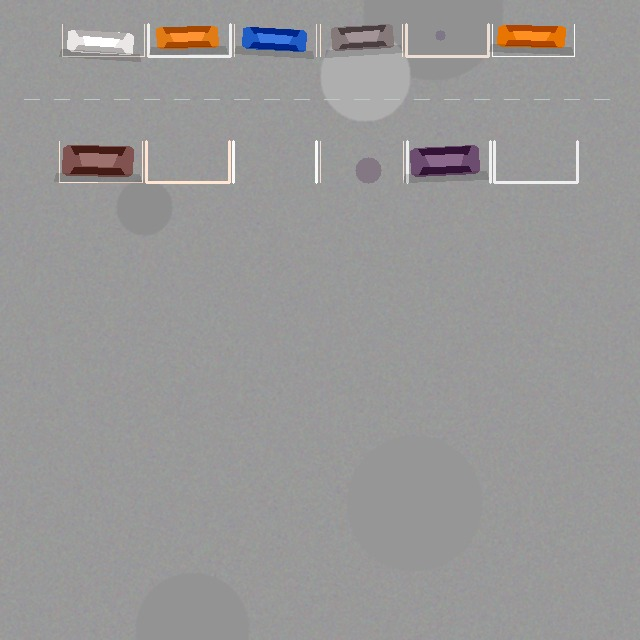space-empty: (146, 141, 229, 182), (233, 141, 316, 182), (320, 141, 403, 182), (494, 141, 577, 182), (406, 24, 488, 56)
space-occupied: (59, 141, 142, 182), (407, 141, 490, 182), (62, 24, 144, 56), (148, 24, 230, 56), (234, 24, 316, 56), (320, 24, 402, 56), (492, 24, 574, 56)
